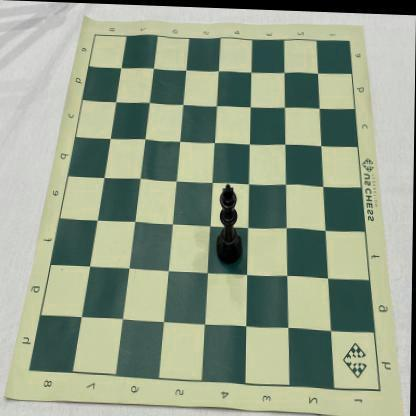black-king: (216, 182, 244, 264)
